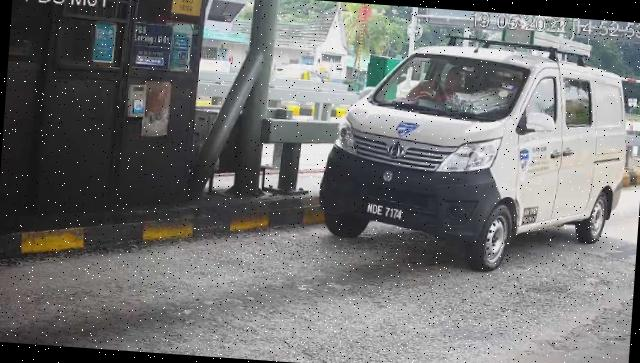License_Plate: (360, 199, 409, 226)
van: (315, 38, 634, 282)
